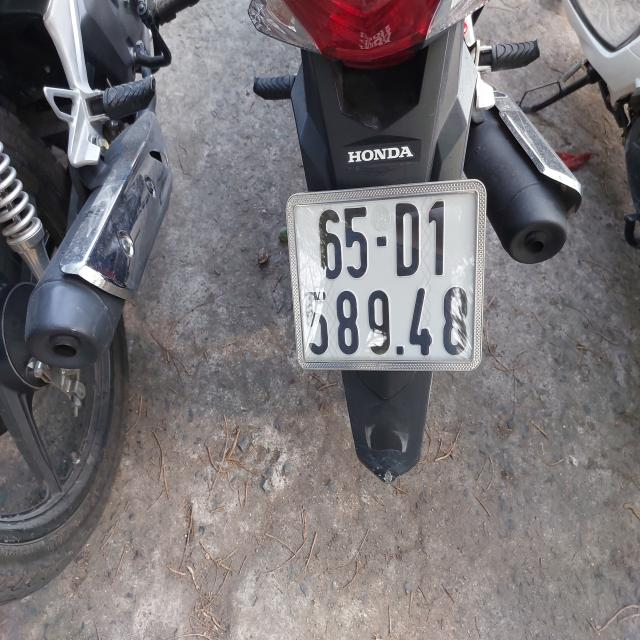4: (406, 288, 434, 356)
5: (342, 202, 369, 278), (304, 288, 331, 357)
6: (317, 208, 344, 280)
8: (444, 285, 470, 353), (336, 291, 360, 354)
9: (365, 289, 394, 360)
D: (395, 198, 423, 279), (427, 199, 449, 277)
